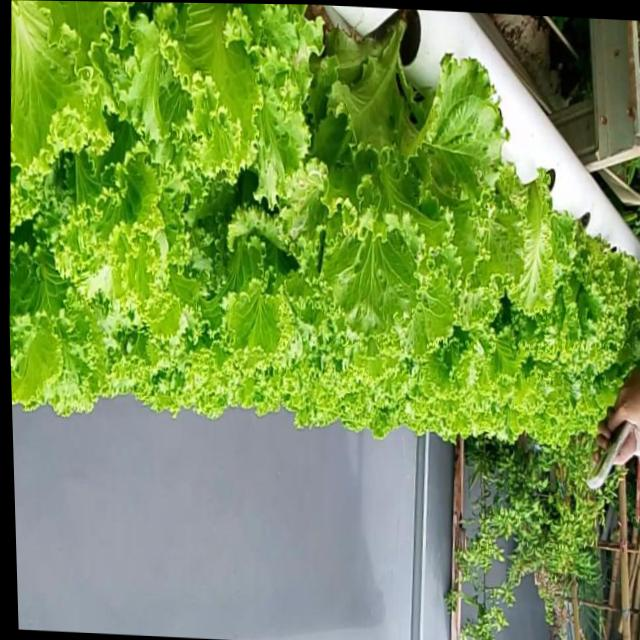Mature: (10, 0, 640, 445), (293, 27, 485, 321), (503, 186, 640, 401)
